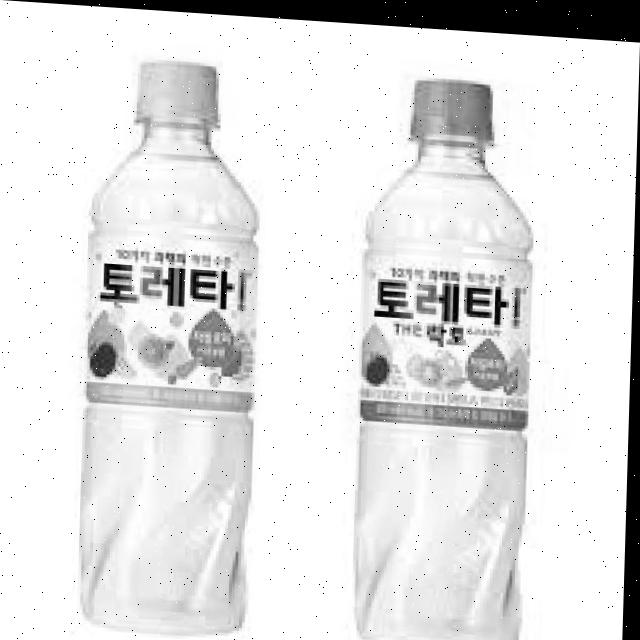bottle: (317, 54, 566, 640), (51, 38, 287, 640)
